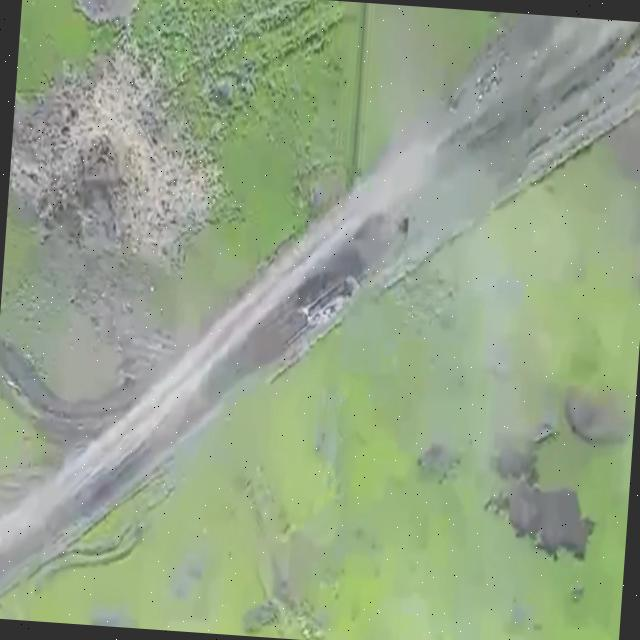MBT: (285, 254, 365, 353)
